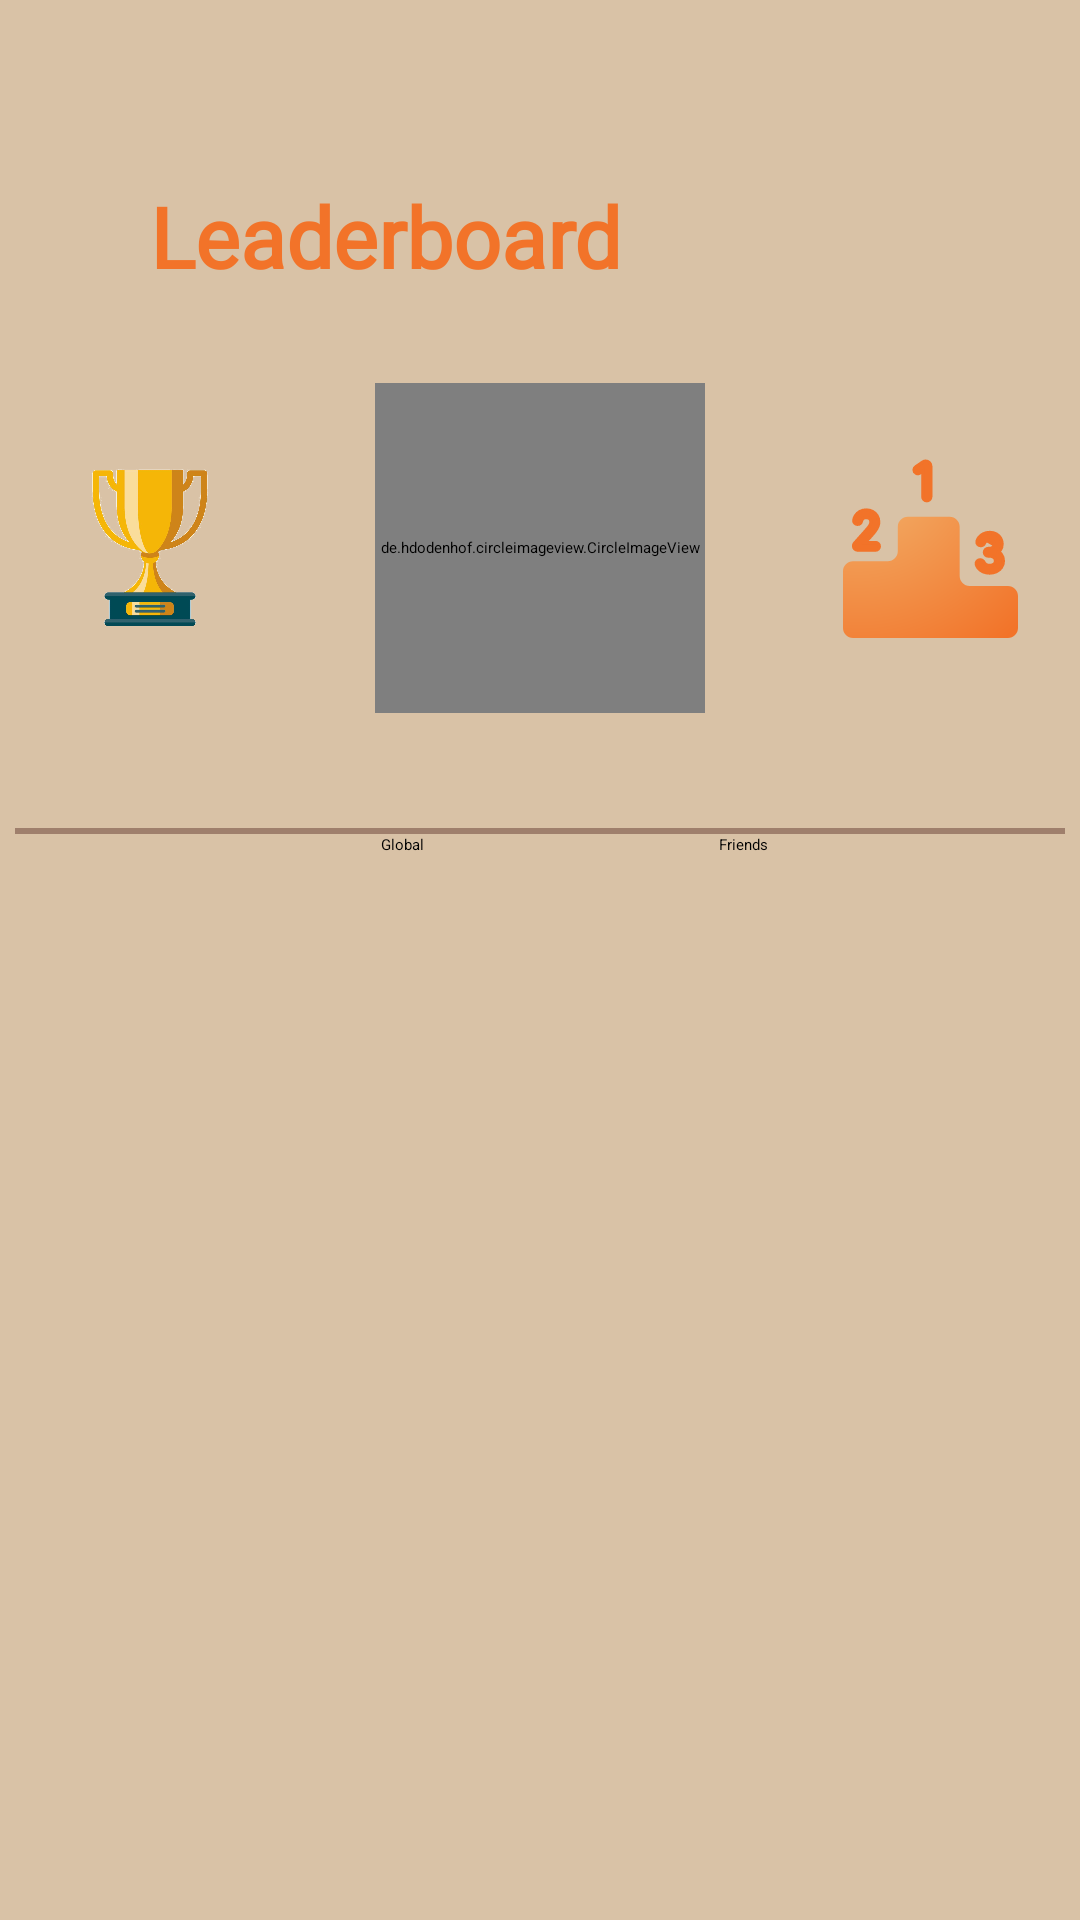

Screen size 1080px×1920px. Icon name, then its box in pixels as Rect(x1, y1, x2, y2):
leaderboard unsel: Rect(843, 459, 1018, 638)
trophee: Rect(92, 469, 208, 626)
